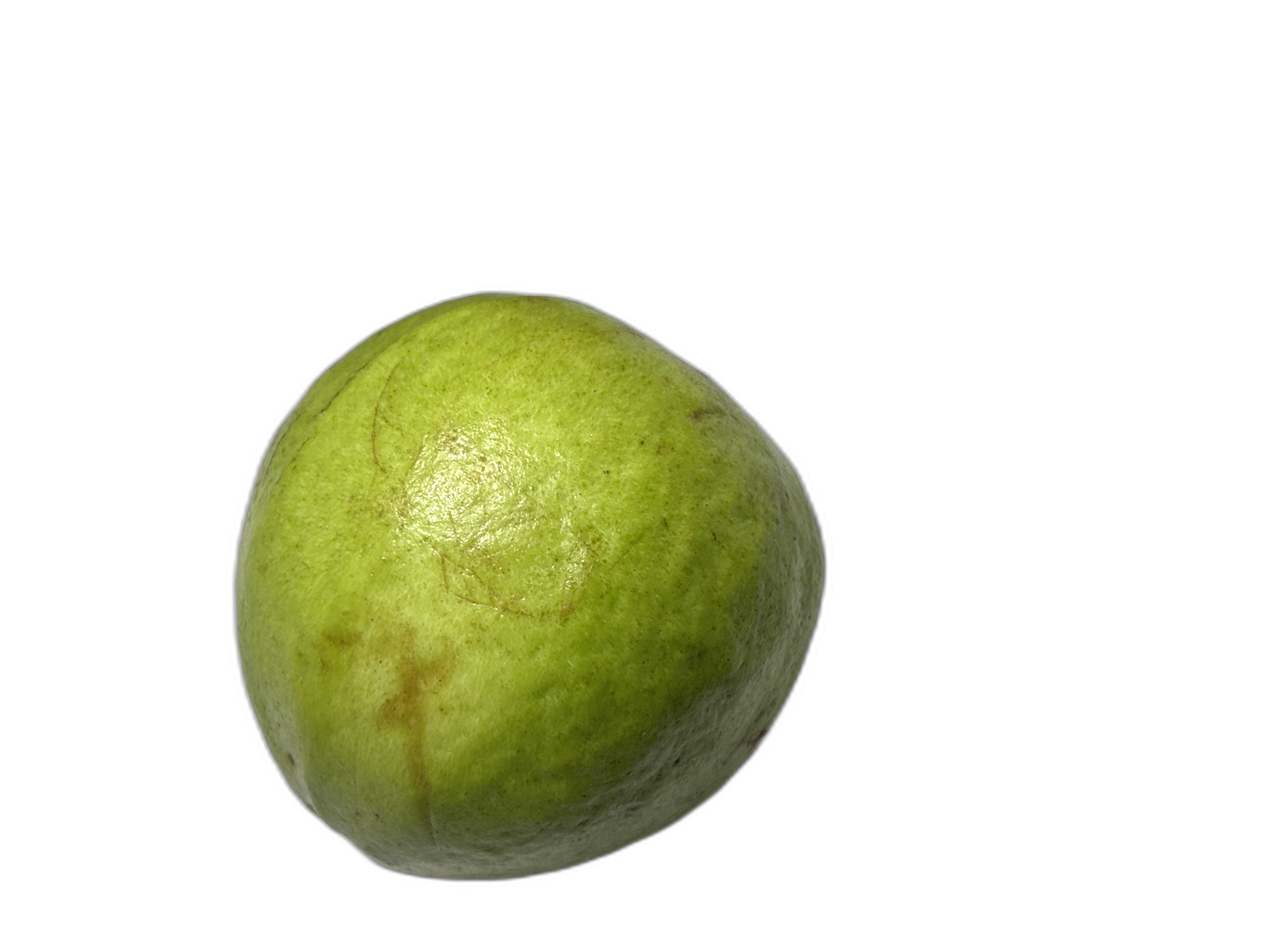guava: (120, 179, 905, 907)
